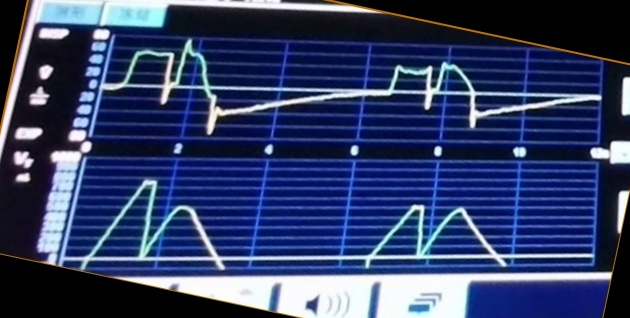Double_Triggering Flow: (112, 38, 509, 138)
Double_Triggering Volume: (81, 172, 510, 272)
